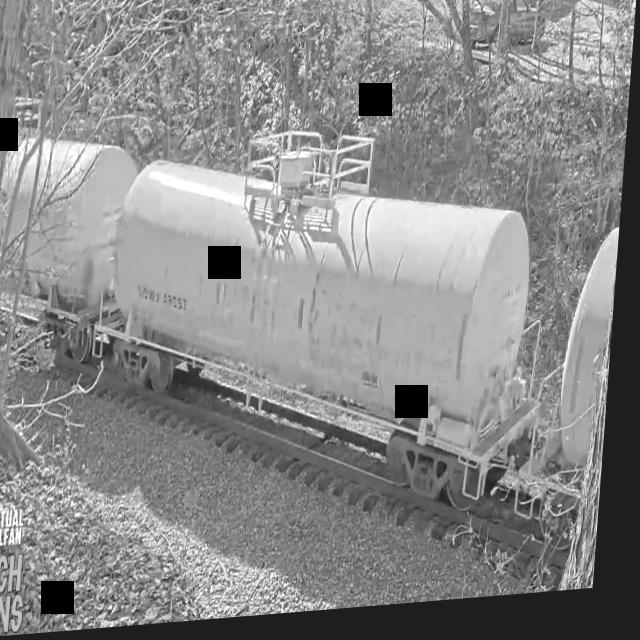tank: (89, 117, 554, 550), (0, 115, 141, 380)
